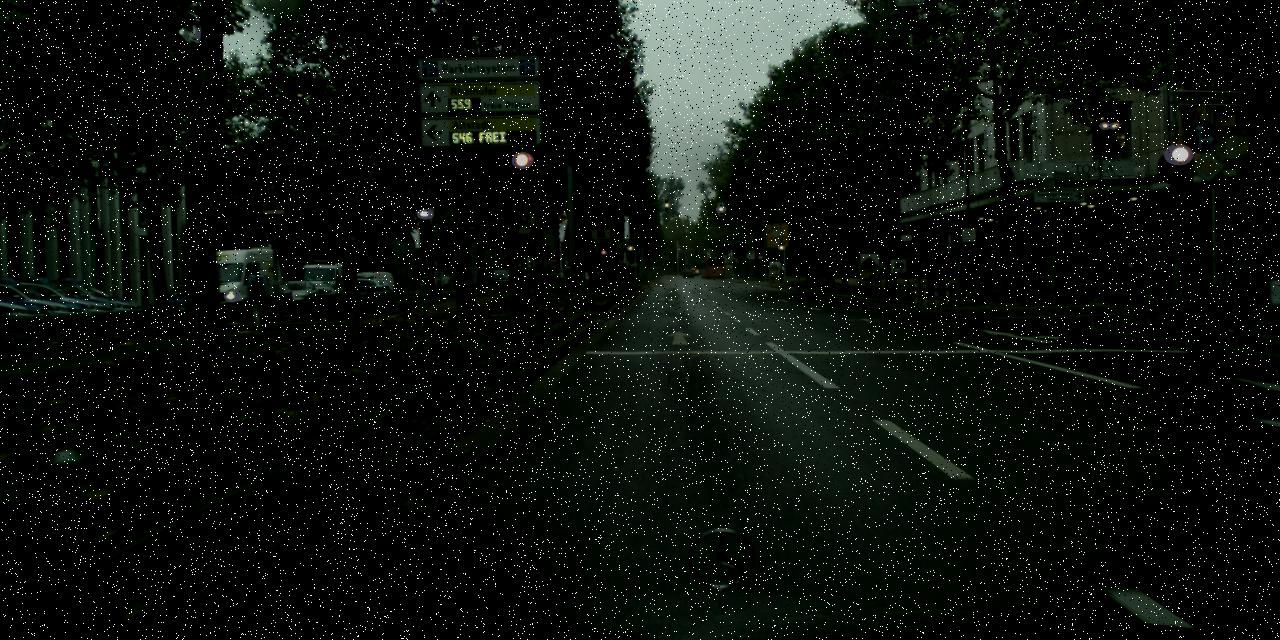ped: (247, 260, 273, 326), (242, 264, 268, 328), (1152, 240, 1176, 300), (1125, 236, 1147, 292), (1104, 244, 1124, 294)
